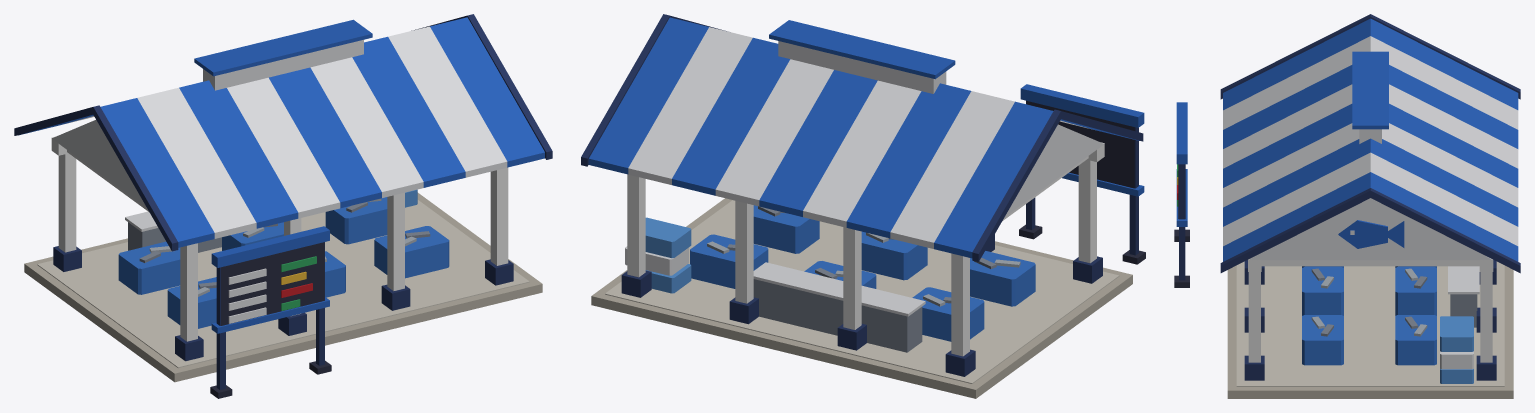
The model's file is fish_hall.glb.
3 renders of one model, left to right at view 1: azimuth 30°, elevation 25°; view 2: azimuth 150°, elevation 25°; view 3: azimuth 270°, elevation 25°, orthographic. The views are drawn at different scales.
Parts seen in each view (by area): view 1: fish_hall; view 2: fish_hall; view 3: fish_hall.
Part boxes in pixels (bbox=[...]): fish_hall: bbox=[14, 14, 552, 398]; fish_hall: bbox=[581, 14, 1145, 398]; fish_hall: bbox=[1174, 14, 1520, 398].
Bounding box in the file's own units: 9.2 × 5.46 × 7.62.
